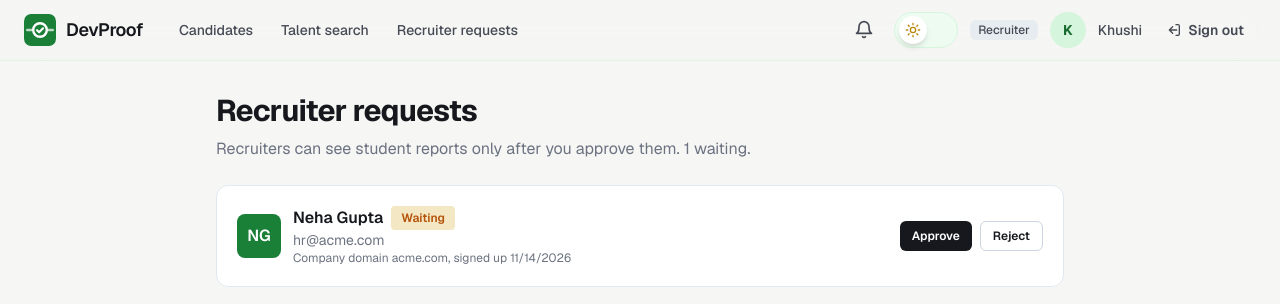
Test: Recruiter approval › lets an admin approve a waiting recruiter
The image size is (1280, 304).
Expected: the text "Waiting" is shown, x1=391 y1=206 x2=455 y2=230
Click the button "Approve" at point(936, 236), box x1=900 y1=221 x2=972 y2=251
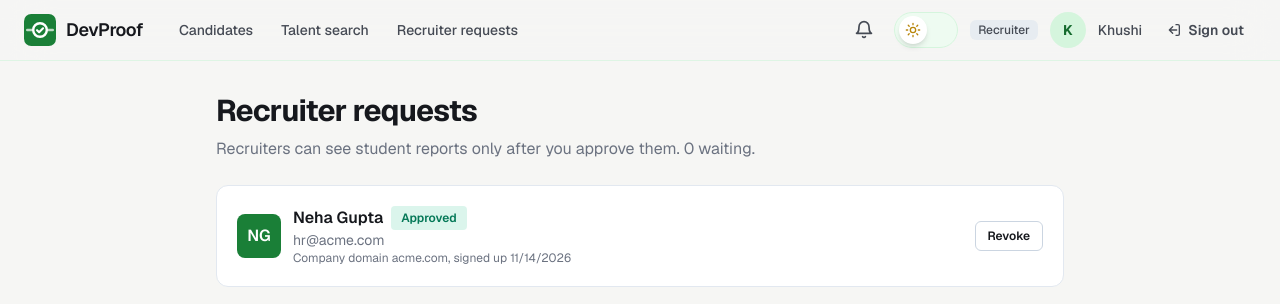
Now the text "Approved" is shown, box x1=391 y1=206 x2=467 y2=230
Now the button "Revoke" is shown, box x1=974 y1=221 x2=1043 y2=251
